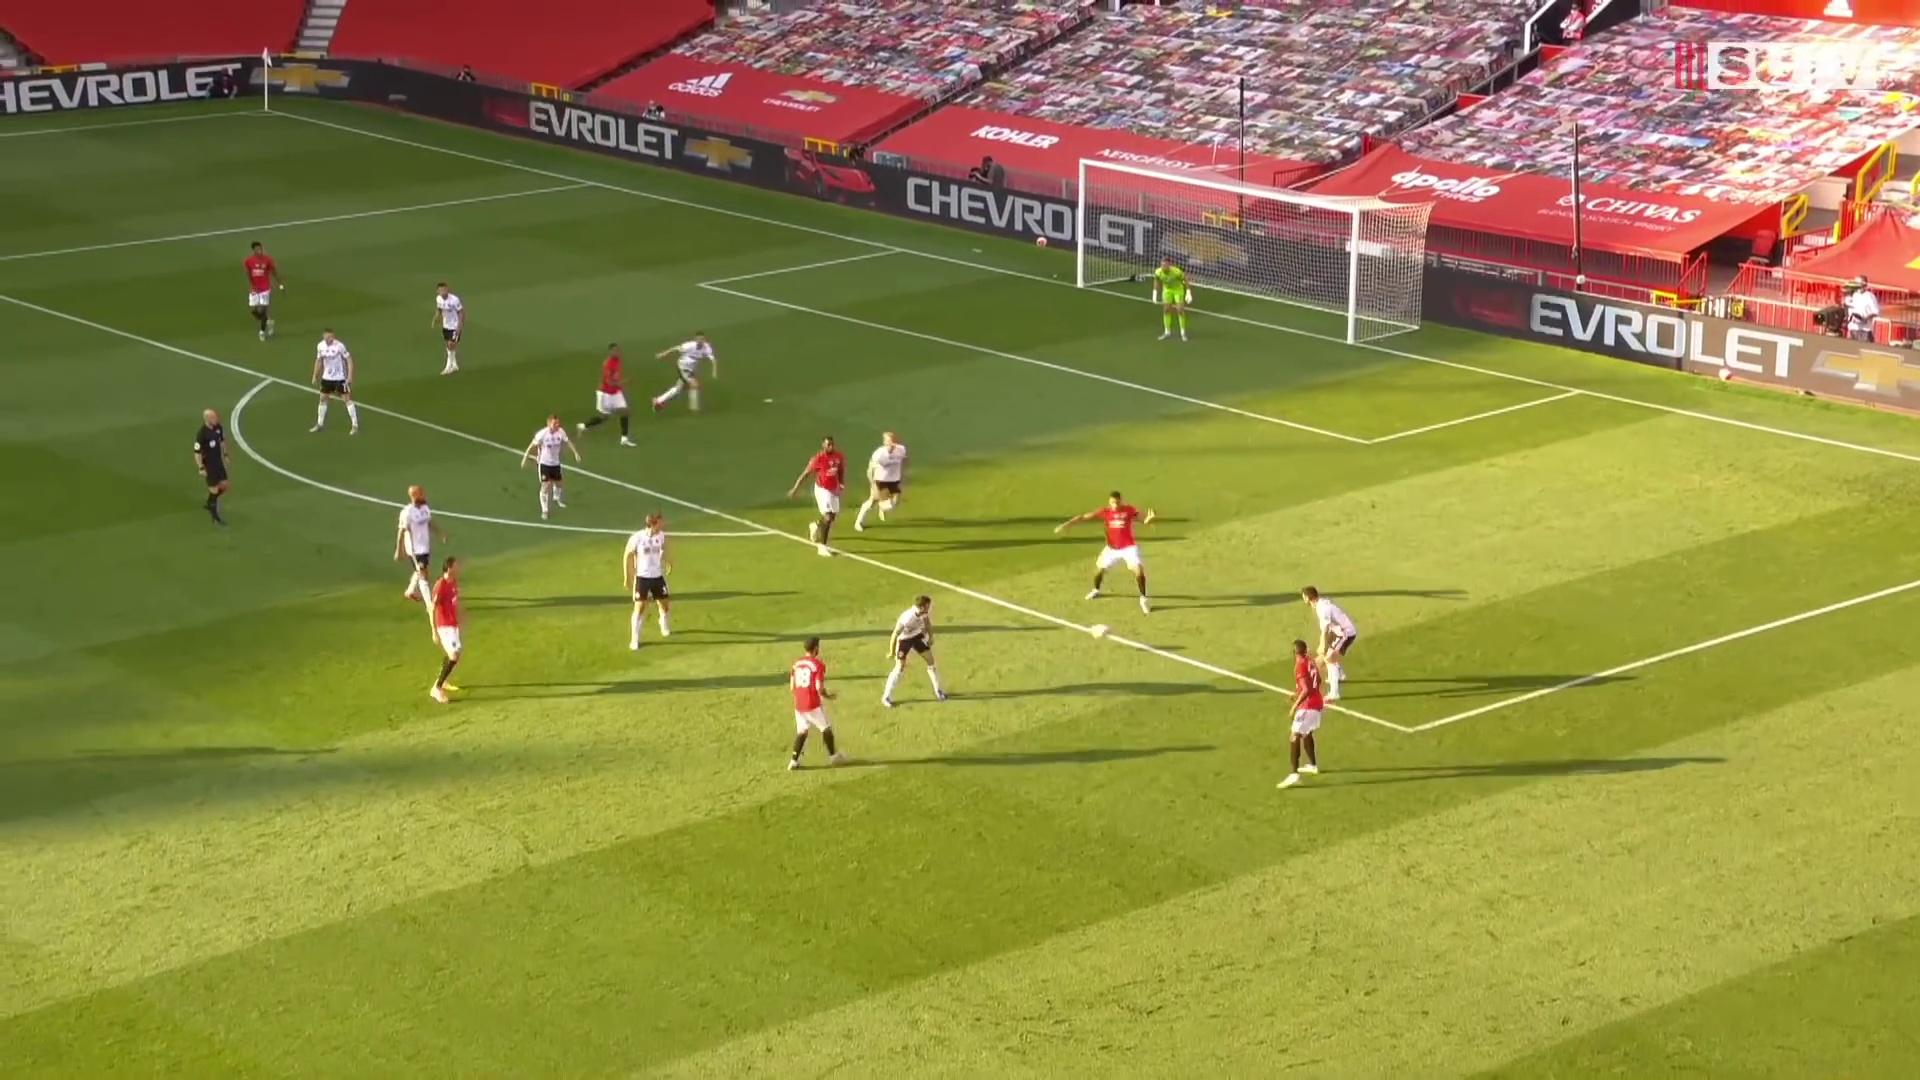ball: (1088, 619, 1115, 646), (1036, 232, 1050, 253)
goalkeeper: (1151, 255, 1198, 348)
player: (1054, 489, 1159, 616), (1275, 637, 1339, 795), (618, 510, 681, 658), (789, 634, 852, 774), (876, 594, 947, 709), (788, 433, 853, 558), (425, 554, 475, 708), (851, 430, 924, 534), (577, 340, 644, 450), (522, 408, 585, 520), (1302, 586, 1360, 704), (648, 328, 724, 418), (310, 324, 368, 441), (397, 484, 447, 608), (237, 235, 283, 340), (434, 280, 470, 379)
referee: (189, 409, 239, 534)
